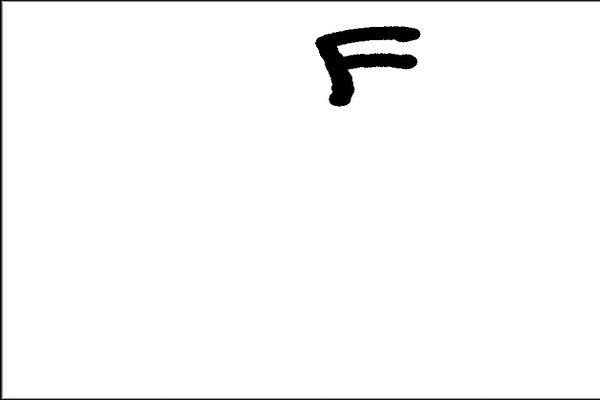F: (308, 21, 423, 113)
